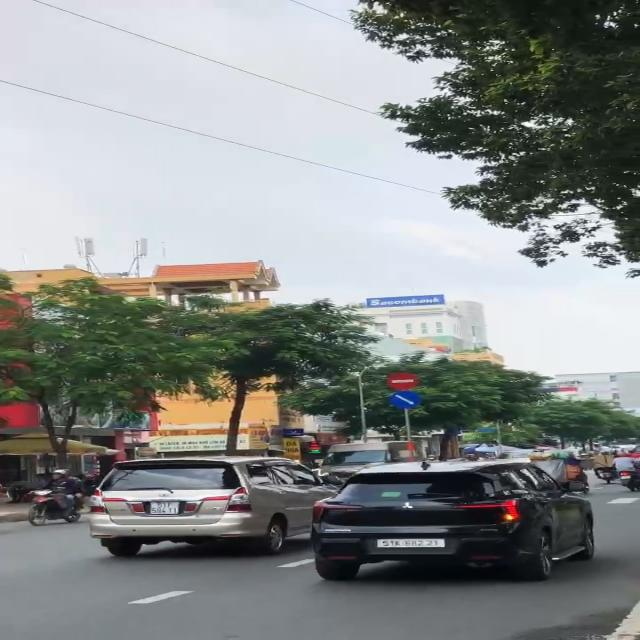Bien bao cam di nguoc chieu: (384, 370, 422, 390)
Bien bao huong phai di vong chuong ngai vat: (388, 391, 422, 409)
